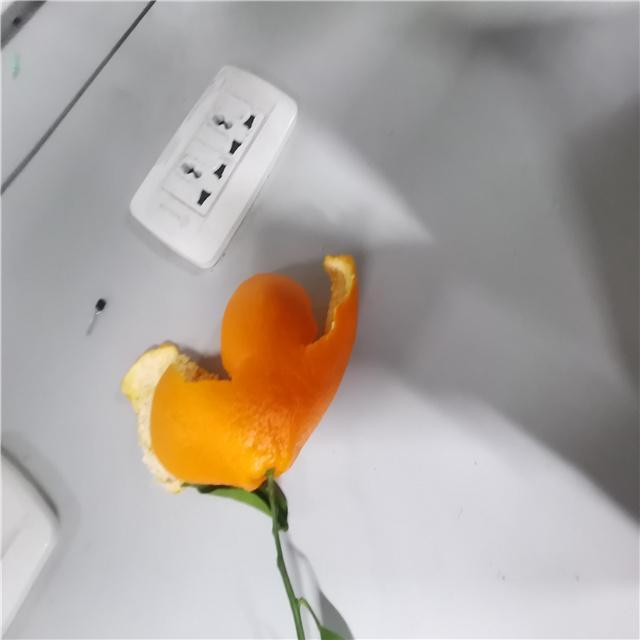orange peel: (118, 252, 360, 494)
